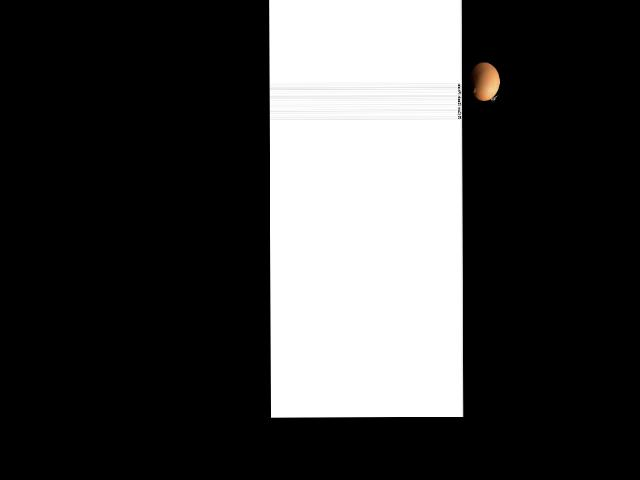egg: (468, 61, 499, 100)
